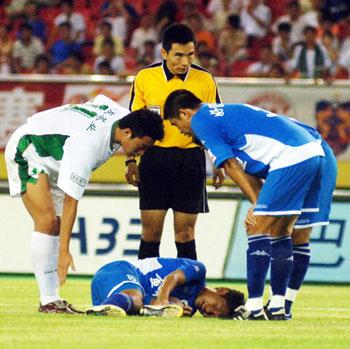bending: (164, 89, 325, 330), (1, 90, 161, 315)
down: (89, 256, 246, 323)
up: (124, 25, 220, 263)
